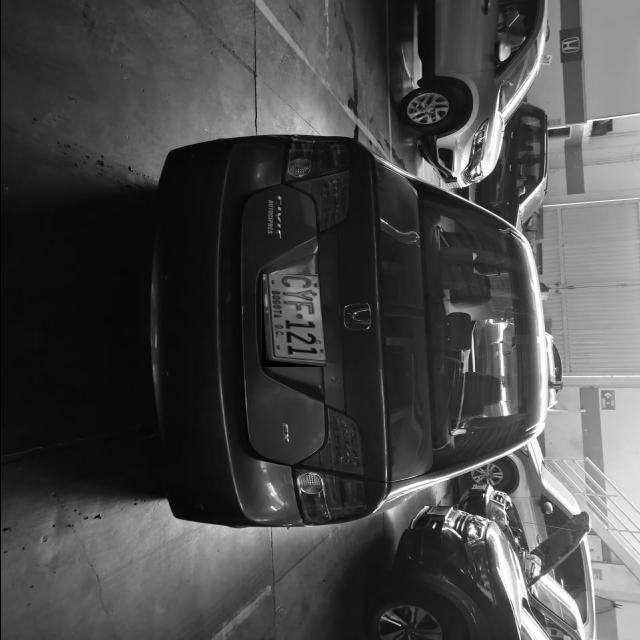plate: (263, 274, 325, 364)
